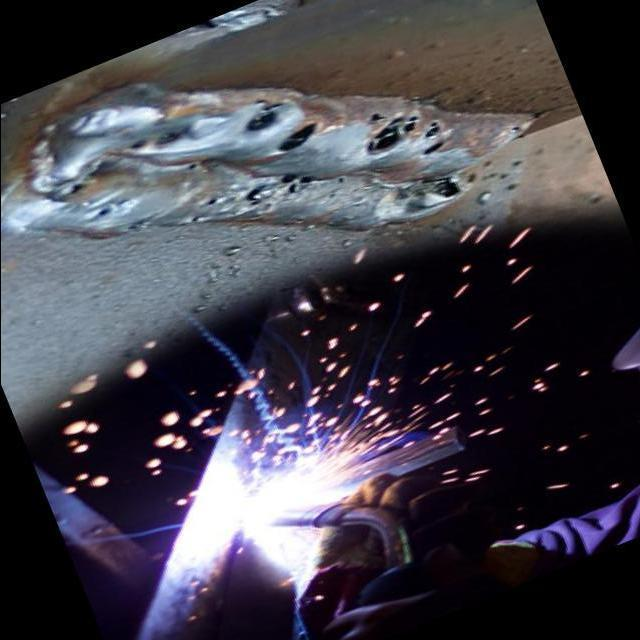defect: (363, 107, 454, 160), (391, 173, 463, 210), (272, 116, 329, 156), (242, 96, 287, 135), (54, 175, 100, 199), (280, 170, 319, 196), (240, 183, 268, 207), (152, 131, 187, 146), (94, 204, 116, 221), (124, 217, 148, 231), (126, 139, 147, 150), (505, 124, 523, 134), (205, 196, 221, 205), (327, 188, 343, 197), (335, 174, 350, 183), (184, 162, 198, 170), (191, 216, 201, 221)
